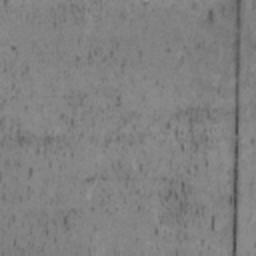Scratches: (232, 0, 242, 256)
